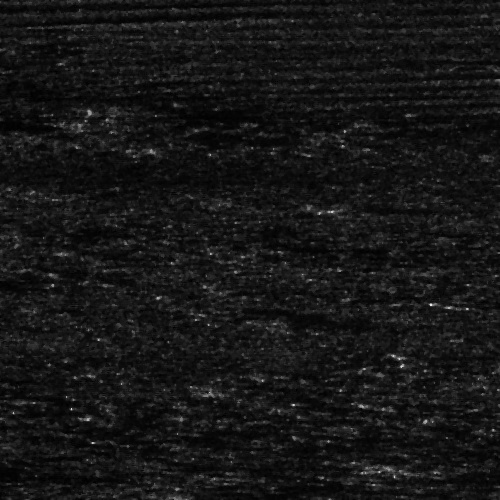object: (305, 201, 368, 212), (391, 352, 422, 357)
shadow: (336, 201, 486, 212), (407, 352, 490, 357)
